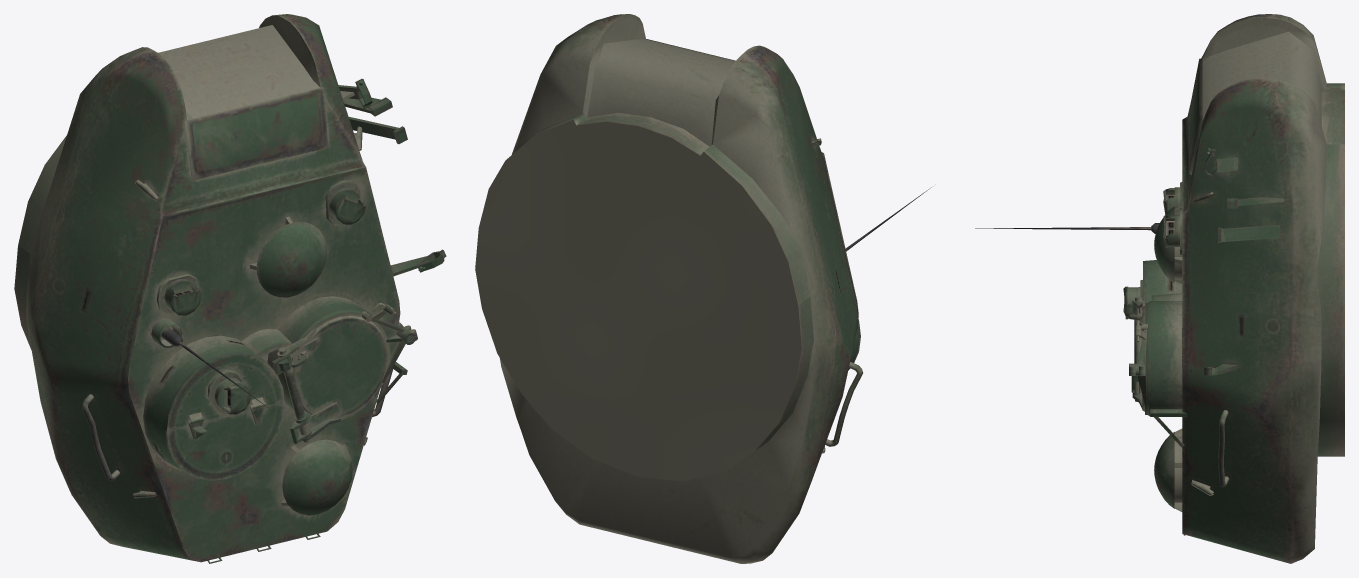
Rendered from Turret_02.glb.
3 views of the same model, side by side, from view 1: azimuth 30°, elevation 25°; view 2: azimuth 150°, elevation 25°; view 3: azimuth 270°, elevation 25° (orthographic). The views are drawn at different scales.
Visible parts, largest first — view 1: set_0_group_0; view 2: set_0_group_0; view 3: set_0_group_0.
Part boxes in pixels (x1,y1,x2,y2): set_0_group_0: [14, 14, 446, 563]; set_0_group_0: [475, 14, 931, 563]; set_0_group_0: [975, 14, 1344, 563].
Bounding box in the file's own units: 2.18 × 2.85 × 2.03.
Materials: 1 (1 with a texture image).
